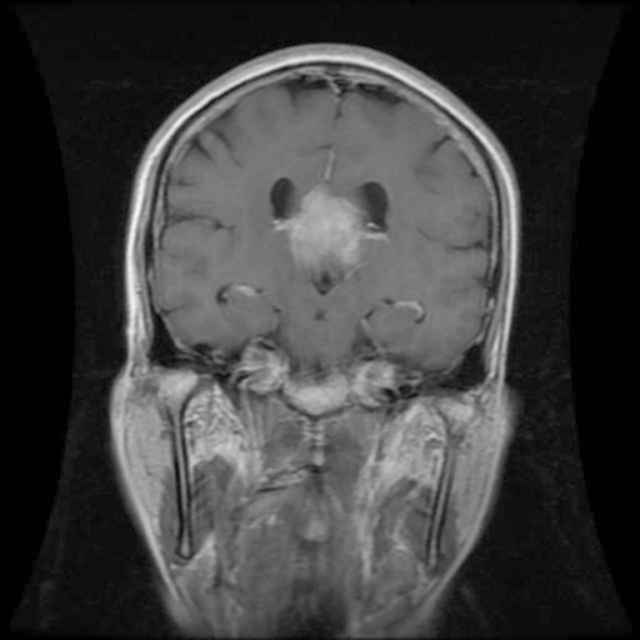meningioma tumor: (276, 186, 385, 290)
